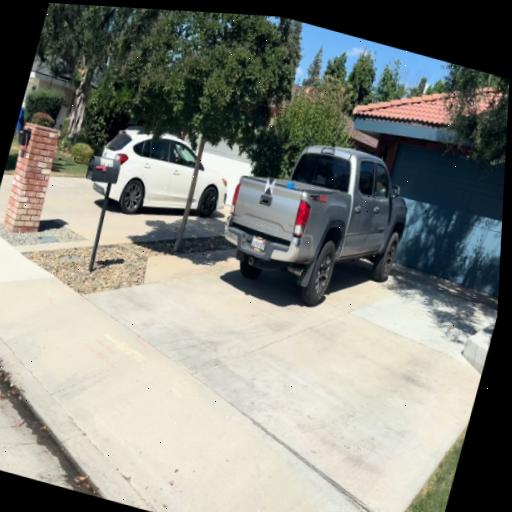target1: (263, 176, 275, 195)
